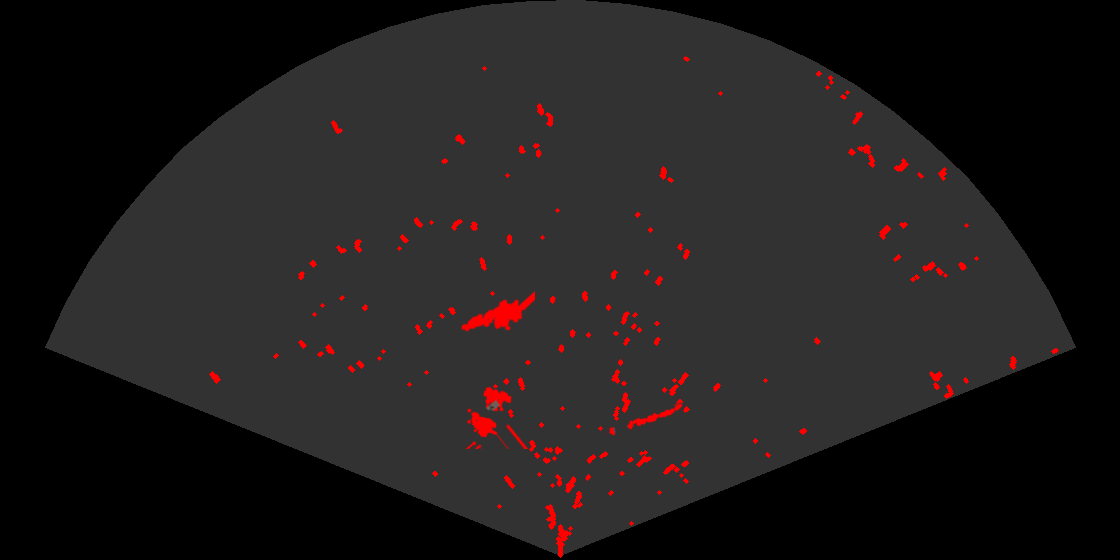cage: (464, 385, 529, 449)
chain: (606, 402, 684, 437)
frogman: (459, 289, 535, 333)
